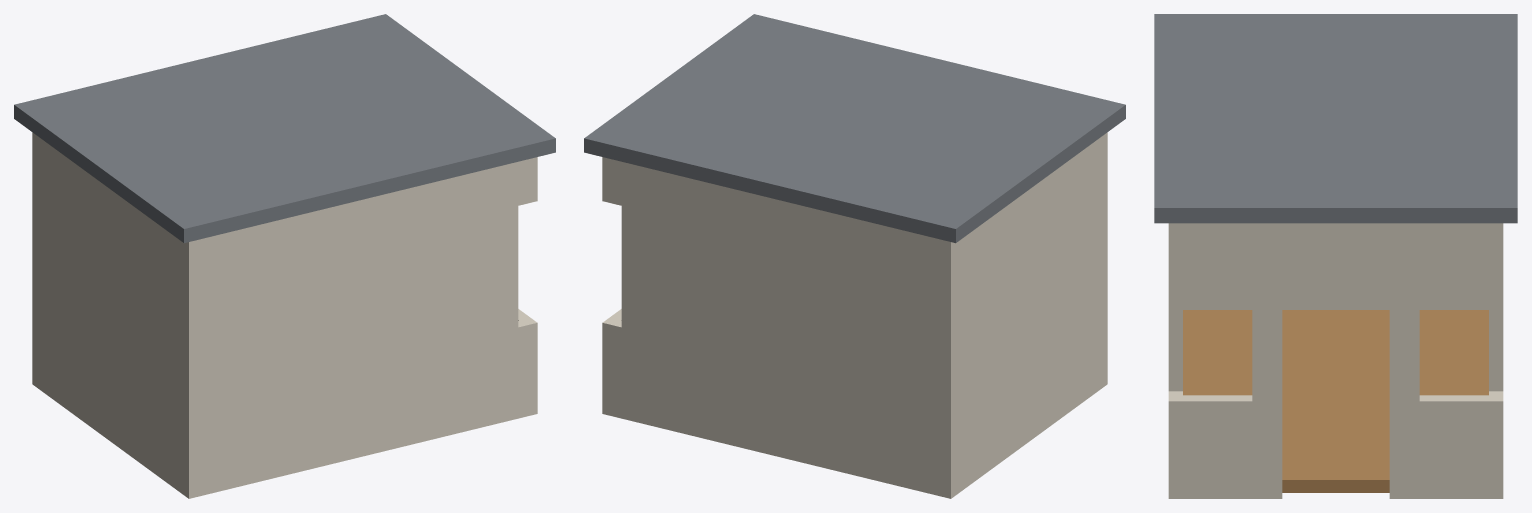
The model's file is room.glb.
3 views of the same model, side by side, from view 1: azimuth 30°, elevation 25°; view 2: azimuth 150°, elevation 25°; view 3: azimuth 270°, elevation 25° (orthographic). The views are drawn at different scales.
Visible parts, largest first — view 1: walls, roof; view 2: walls, roof; view 3: roof, walls, floor.
Part boxes in pixels (x1=…): walls: x1=32, y1=132, x2=537, y2=498; roof: x1=14, y1=14, x2=555, y2=243; walls: x1=602, y1=132, x2=1107, y2=498; roof: x1=584, y1=14, x2=1125, y2=243; roof: x1=1154, y1=14, x2=1517, y2=223; walls: x1=1168, y1=223, x2=1503, y2=498; floor: x1=1183, y1=310, x2=1488, y2=492.
Bounding box in the file's own units: 3.84 × 2.74 × 3.04.
